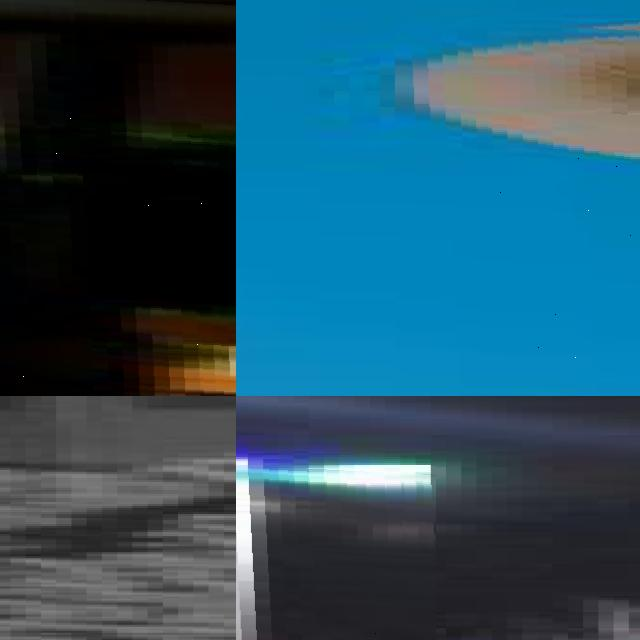street light: (0, 0, 236, 396), (395, 18, 640, 396), (236, 465, 436, 640)
